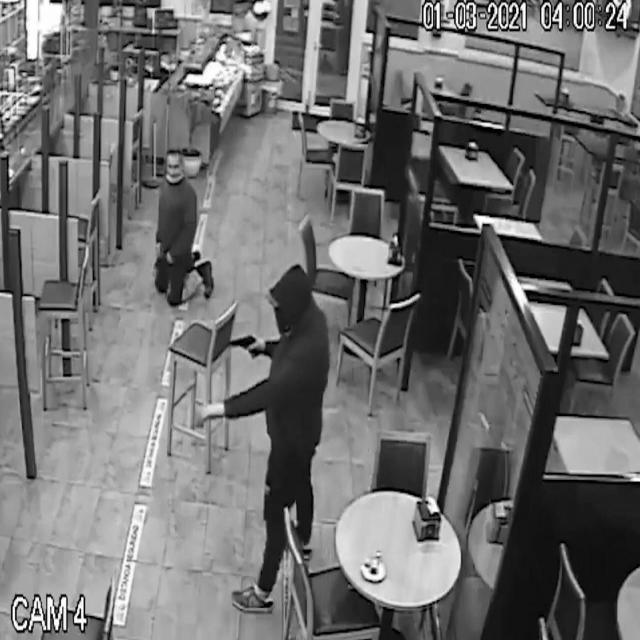Gun: (224, 323, 264, 371)
